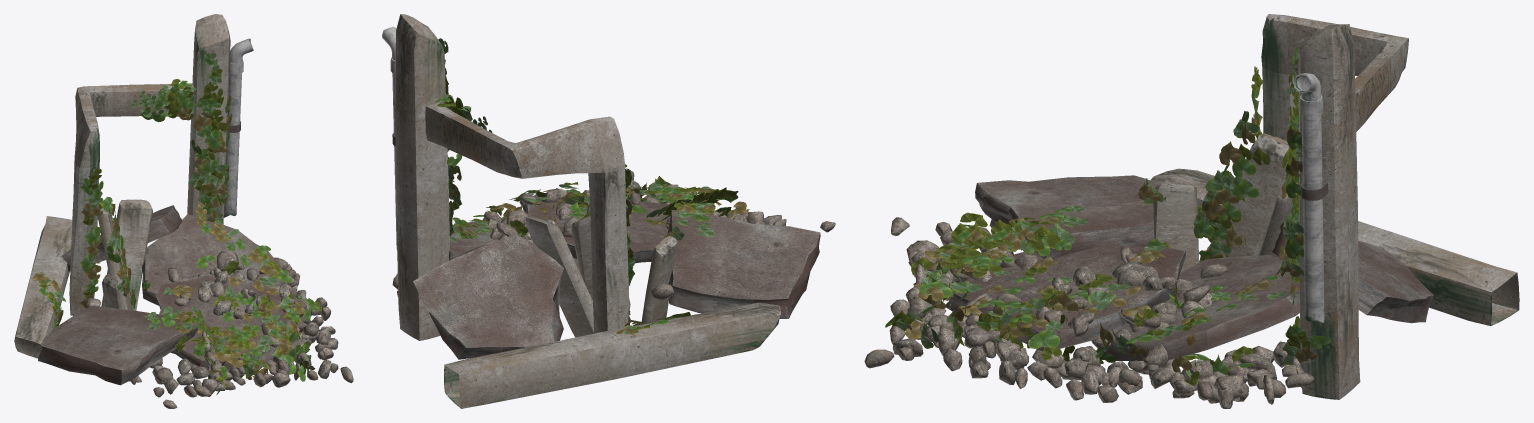
3 renders of one model, left to right at view 1: azimuth 30°, elevation 25°; view 2: azimuth 150°, elevation 25°; view 3: azimuth 270°, elevation 25°, orthographic. The views are drawn at different scales.
Parts seen in each view (by area): view 1: Stones1, columns, Leaves; view 2: columns, Stones1, Leaves; view 3: Stones1, columns, Leaves.
Boxes of the visible parts, left/top/right/bottom form: Stones1: left=38, top=205, right=353, bottom=408; columns: left=14, top=14, right=253, bottom=358; Leaves: left=32, top=53, right=321, bottom=394; columns: left=382, top=14, right=780, bottom=408; Stones1: left=392, top=168, right=835, bottom=359; Leaves: left=435, top=38, right=749, bottom=336; Stones1: left=864, top=175, right=1433, bottom=408; columns: left=1150, top=14, right=1519, bottom=399; Leaves: left=885, top=47, right=1331, bottom=387.
Size of what is drawn, in the model's own units: 0.8124 by 0.6993 by 1.08.
3 materials, 3 textured.
